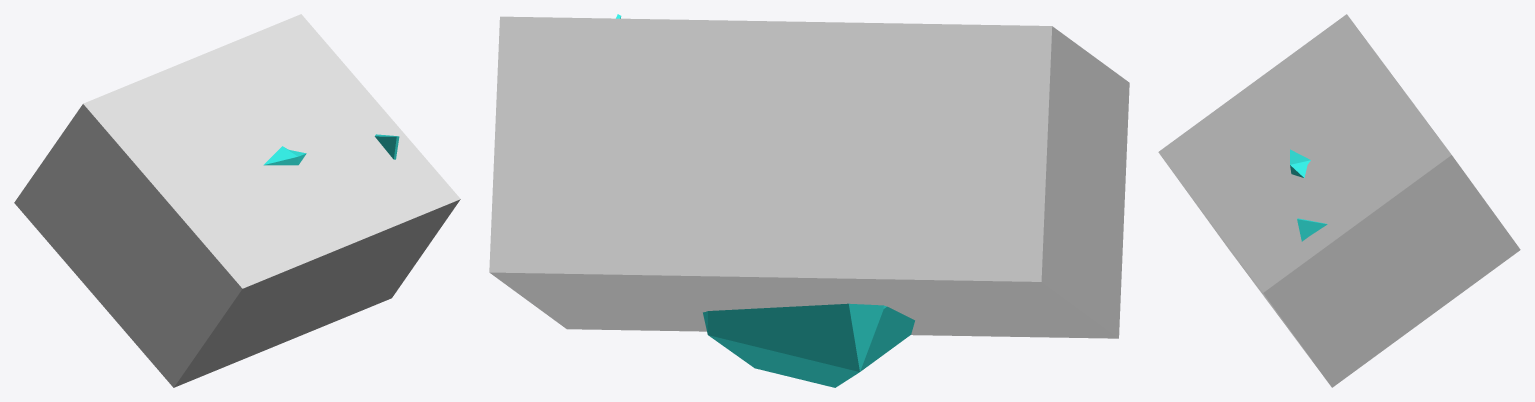
The model's file is Parsec Run Ship.glb.
3 views of the same model, side by side, from view 1: azimuth 30°, elevation 25°; view 2: azimuth 150°, elevation 25°; view 3: azimuth 270°, elevation 25° (orthographic). The views are drawn at different scales.
Parts seen in each view (by area): view 1: Cube, Cube.002; view 2: Cube, Cube.002; view 3: Cube, Cube.002.
Boxes of the visible parts, left/top/right/bottom form: Cube: left=14, top=14, right=460, bottom=387; Cube.002: left=263, top=134, right=399, bottom=165; Cube: left=489, top=16, right=1129, bottom=338; Cube.002: left=616, top=14, right=914, bottom=387; Cube: left=1158, top=14, right=1520, bottom=387; Cube.002: left=1290, top=149, right=1327, bottom=241.
Size of the model in its own units: 4.75 by 3.28 by 4.49.
